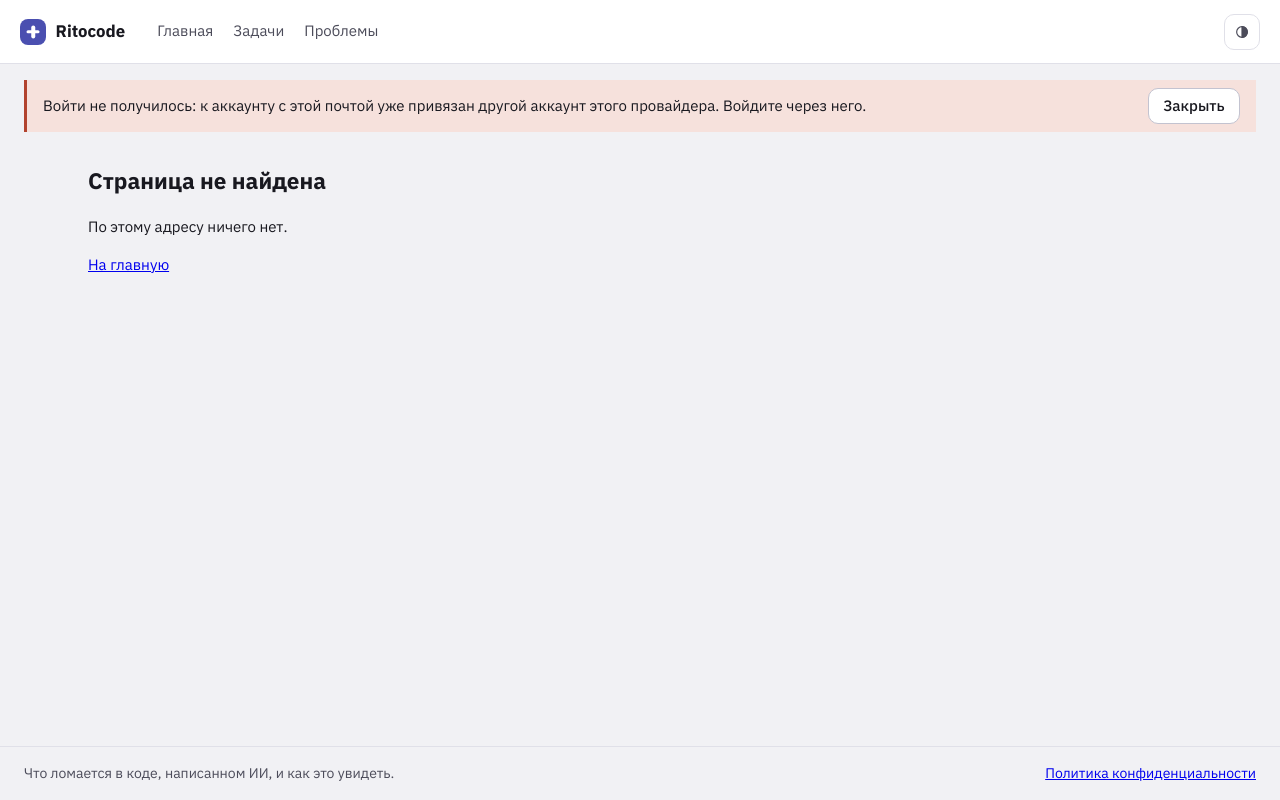
Test case: signing in and out from the header › says why a sign-in reached nobody, until dismissed
The image size is (1280, 800).
Check: the message shows "Войти не получилось: к аккаунту с этой почтой уже привязан другой аккаунт этого провайдера. Войдите через него.", box [43,96,866,115]
Click the button "Закрыть" at coordinates (1194, 106), box [1148,88,1240,124]
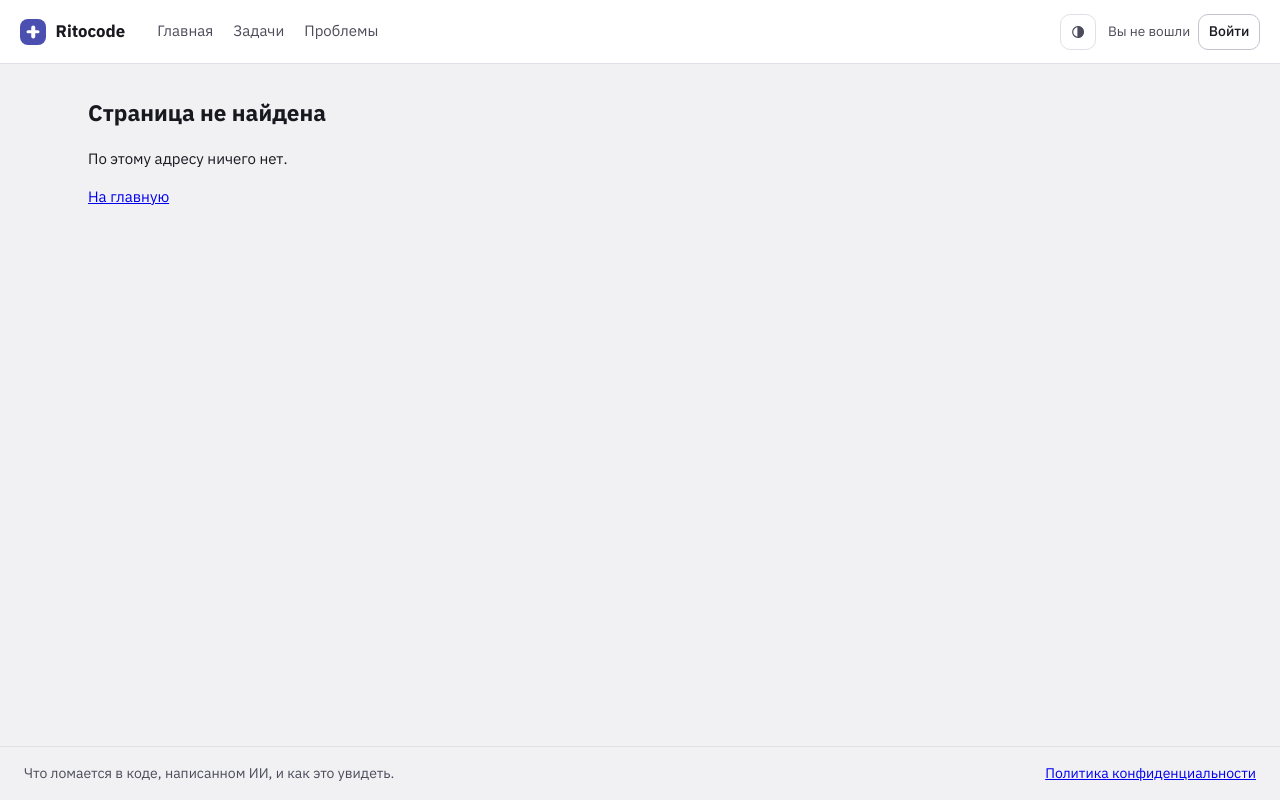
Check: the text "Войти не получилось: к аккаунту с этой почтой уже привязан другой аккаунт этого провайдера. Войдите через него." is gone
